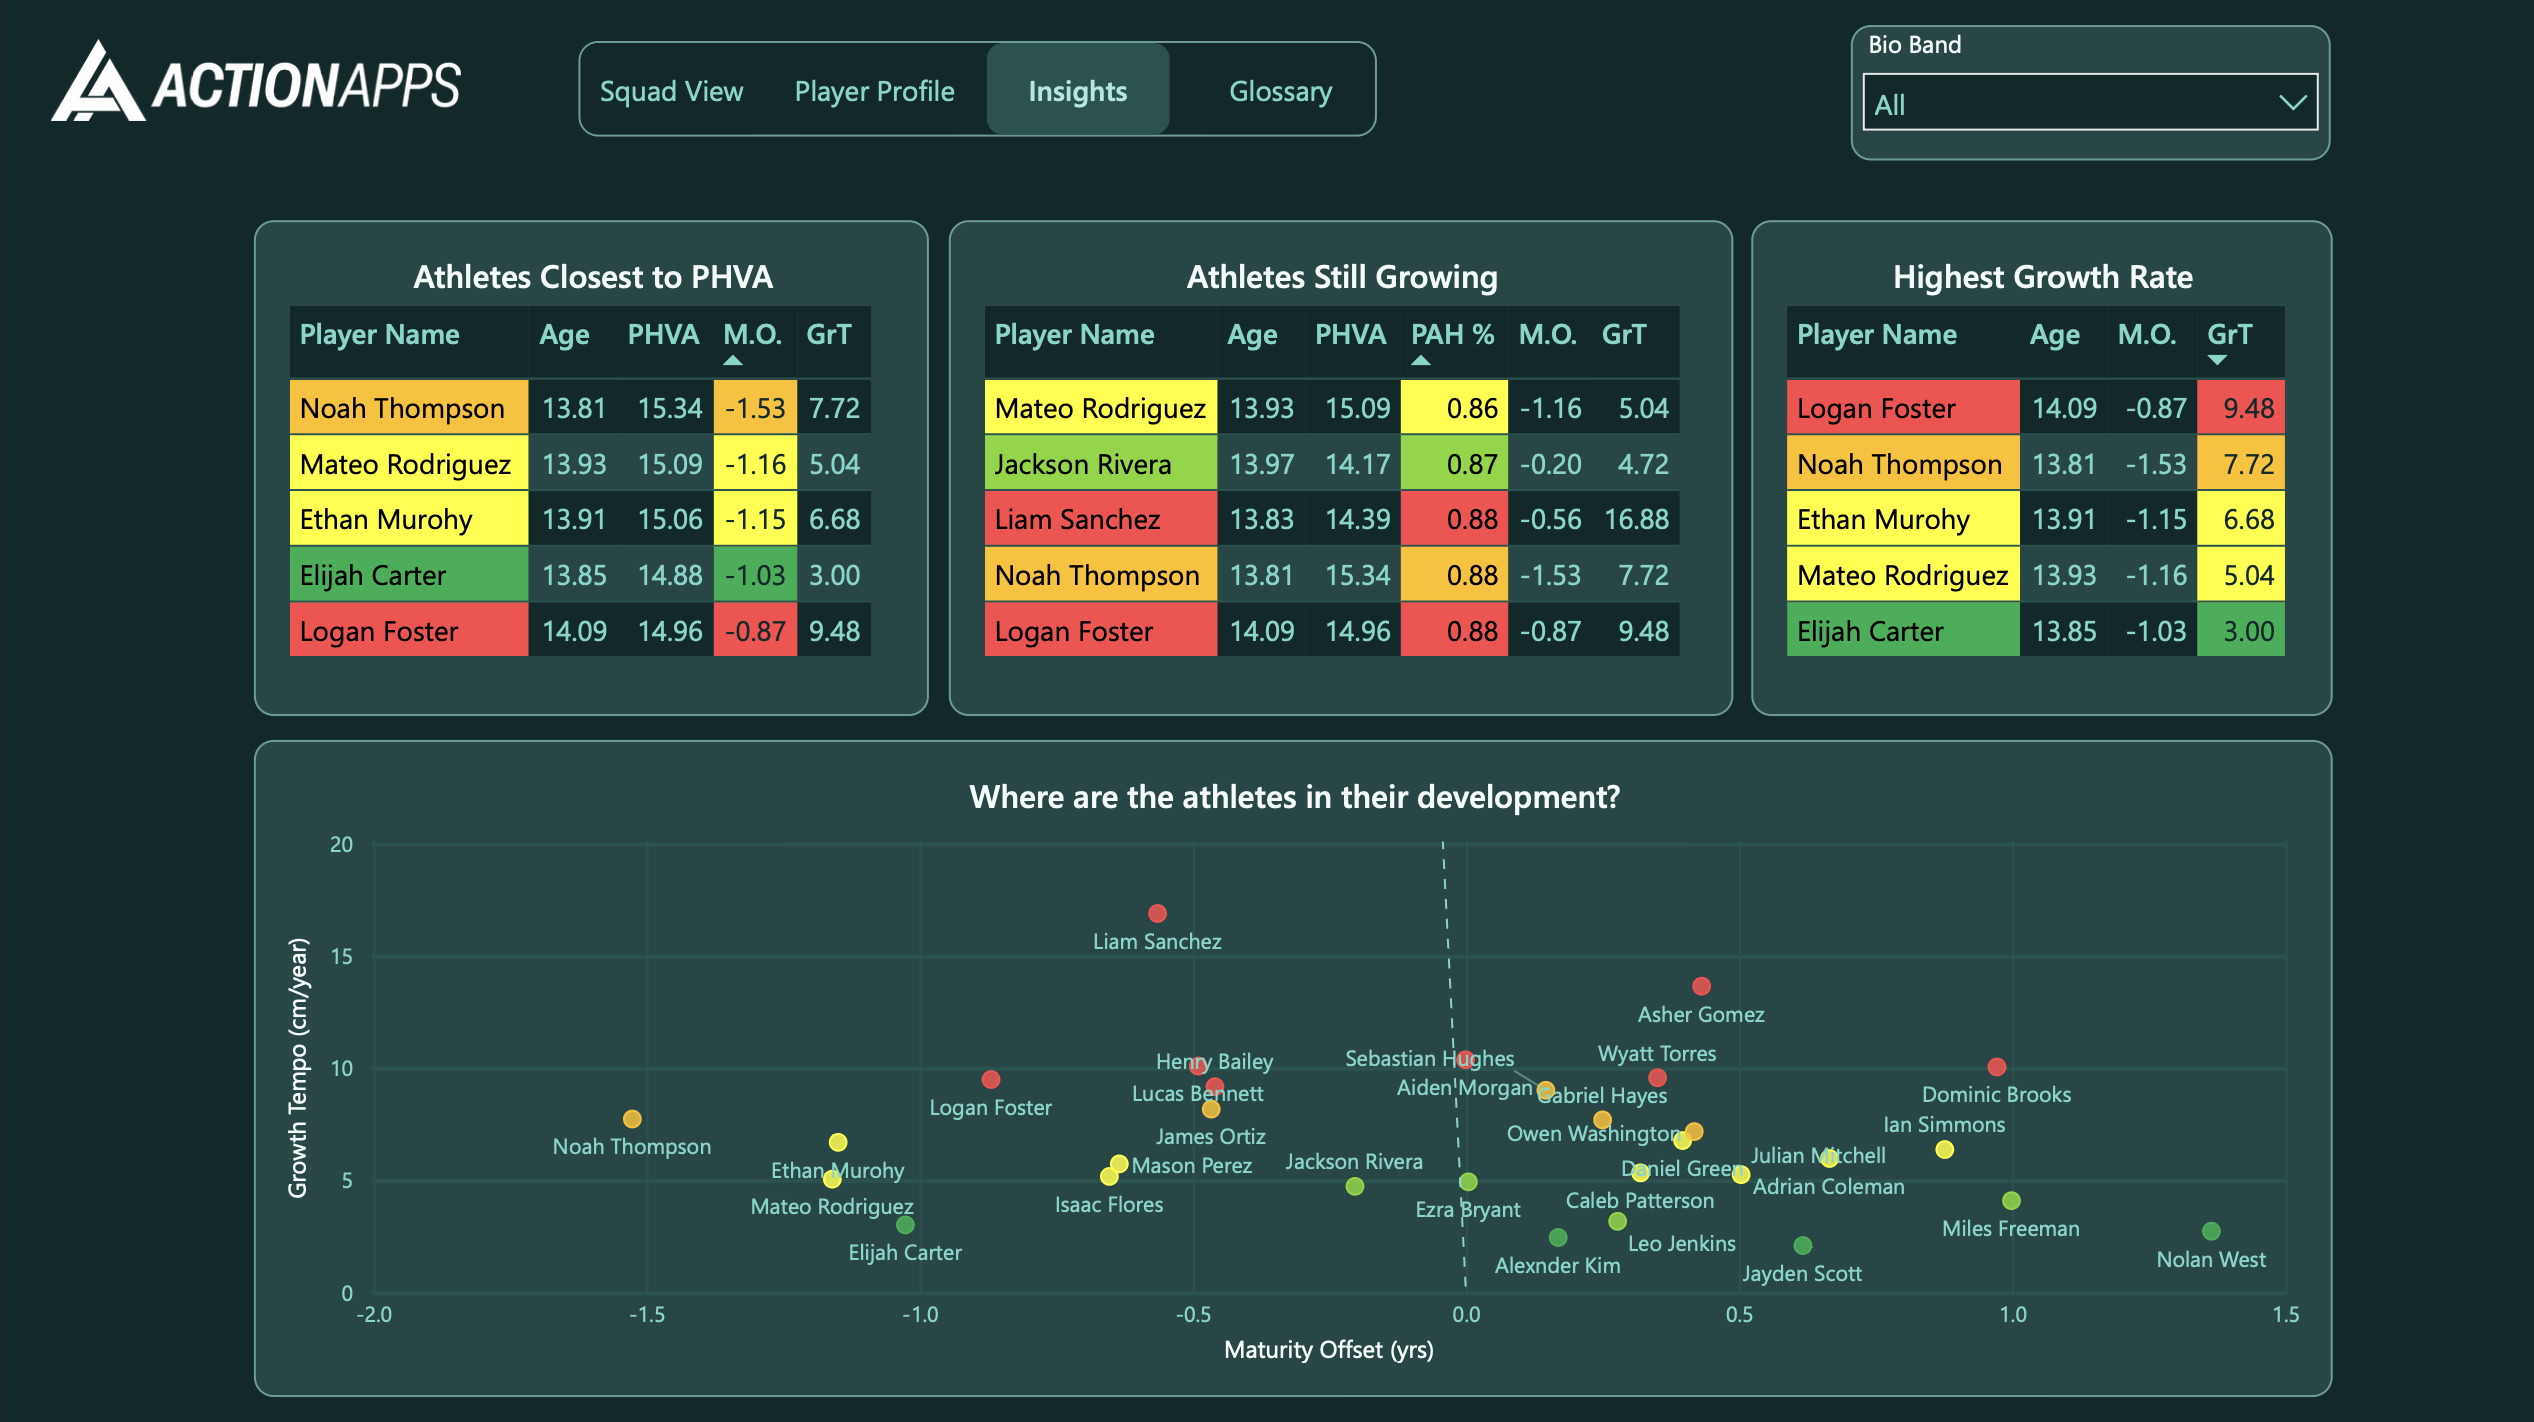

The page's visual inventory and layout, read from the dashboard file:
{"tool":"powerbi","page":{"name":"Insights","canvas":[1280,720],"ordinal":2},"visuals":[{"type":"tableEx","title":"Athletes Closest to PHVA","fields":{"Values":["AM_HPP.Player Name","Avg(AM_HPP.Chronological Age)","Avg(AM_HPP.PHVA Age)","Avg(AM_HPP.Maturity Offset)","Avg(AM_HPP.Growth Tempo)"]},"box":[126.6,112.7,339.2,249],"z":0},{"type":"tableEx","title":"Athletes Still Growing","fields":{"Values":["AM_HPP.Player Name","Avg(AM_HPP.Chronological Age)","Avg(AM_HPP.PHVA Age)","Avg(AM_HPP.% Pred Adult Height)","Avg(AM_HPP.Maturity Offset)","Sum(AM_HPP.Growth Tempo)"]},"box":[476.1,112.6,393.9,249.2],"z":1000},{"type":"tableEx","title":"Highest Growth Rate","fields":{"Values":["AM_HPP.Player Name","Sum(AM_HPP.Chronological Age)","Avg(AM_HPP.Maturity Offset)","Avg(AM_HPP.Growth Tempo)"]},"box":[879.3,112.7,291.5,249],"z":2000},{"type":"scatterChart","title":"Where are the athletes in their development?","fields":{"X":["Avg(AM_HPP.Maturity Offset)"],"Y":["Avg(AM_HPP.Growth Tempo)"],"Category":["AM_HPP.Player Name"]},"box":[126.6,374,1044.2,329.9],"z":3000},{"type":"slicer","fields":{"Values":["AM_HPP.Bio Band"]},"box":[929.2,15.3,241.5,68.2],"z":4000},{"type":"image","box":[25.1,15.3,205.6,54.8],"z":5000},{"type":"pageNavigator","box":[290,23.3,401.3,48.5],"z":6000}]}

Visuals, with their boxes in screenshot pixels (x1, y1, x2, y2), scaled from the page's 1280x720 canvas onto the 2534x1422 screenshot:
"Athletes Closest to PHVA" tableEx: [x1=251, y1=223, x2=922, y2=714]
"Athletes Still Growing" tableEx: [x1=943, y1=222, x2=1722, y2=715]
"Highest Growth Rate" tableEx: [x1=1741, y1=223, x2=2318, y2=714]
"Where are the athletes in their development?" scatterChart: [x1=251, y1=739, x2=2318, y2=1390]
slicer - AM_HPP.Bio Band: [x1=1840, y1=30, x2=2318, y2=165]
image: [x1=50, y1=30, x2=457, y2=138]
pageNavigator: [x1=574, y1=46, x2=1369, y2=142]
